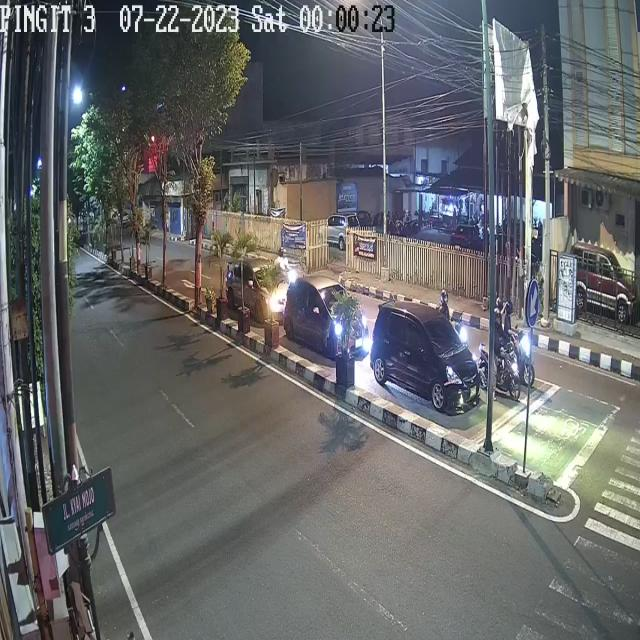car: (370, 300, 481, 415), (284, 277, 368, 362), (226, 253, 290, 325)
motorcycle: (480, 304, 520, 406), (497, 294, 533, 389)
